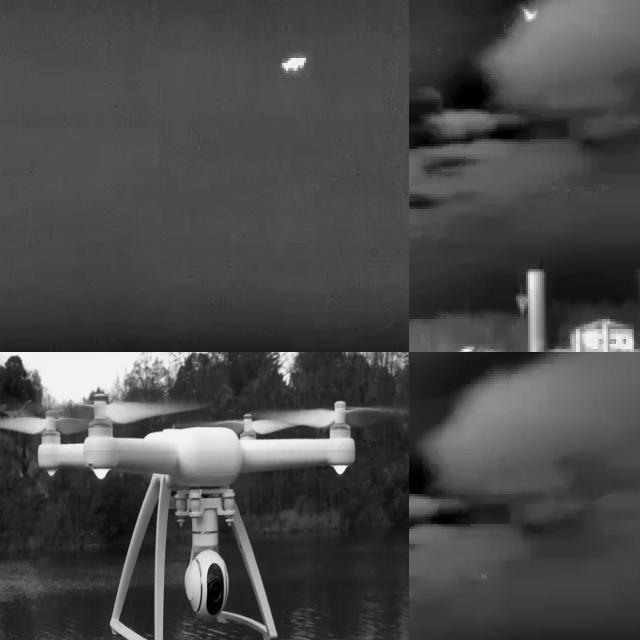0: (510, 0, 538, 33), (590, 179, 614, 204)
1: (270, 50, 306, 80)
drone: (27, 392, 354, 640)
